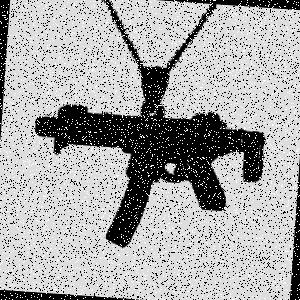SMG: (26, 100, 264, 254)
